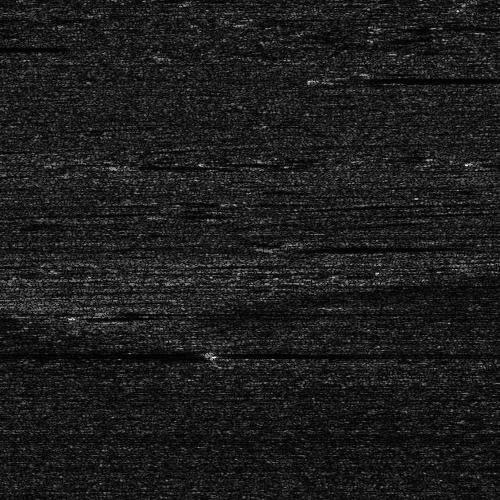object: (179, 348, 242, 357), (325, 73, 388, 80), (260, 244, 323, 249), (97, 162, 150, 167)
shadow: (211, 348, 330, 357), (357, 73, 500, 80), (292, 244, 458, 249), (0, 41, 62, 50), (124, 162, 232, 167), (157, 211, 195, 214)
